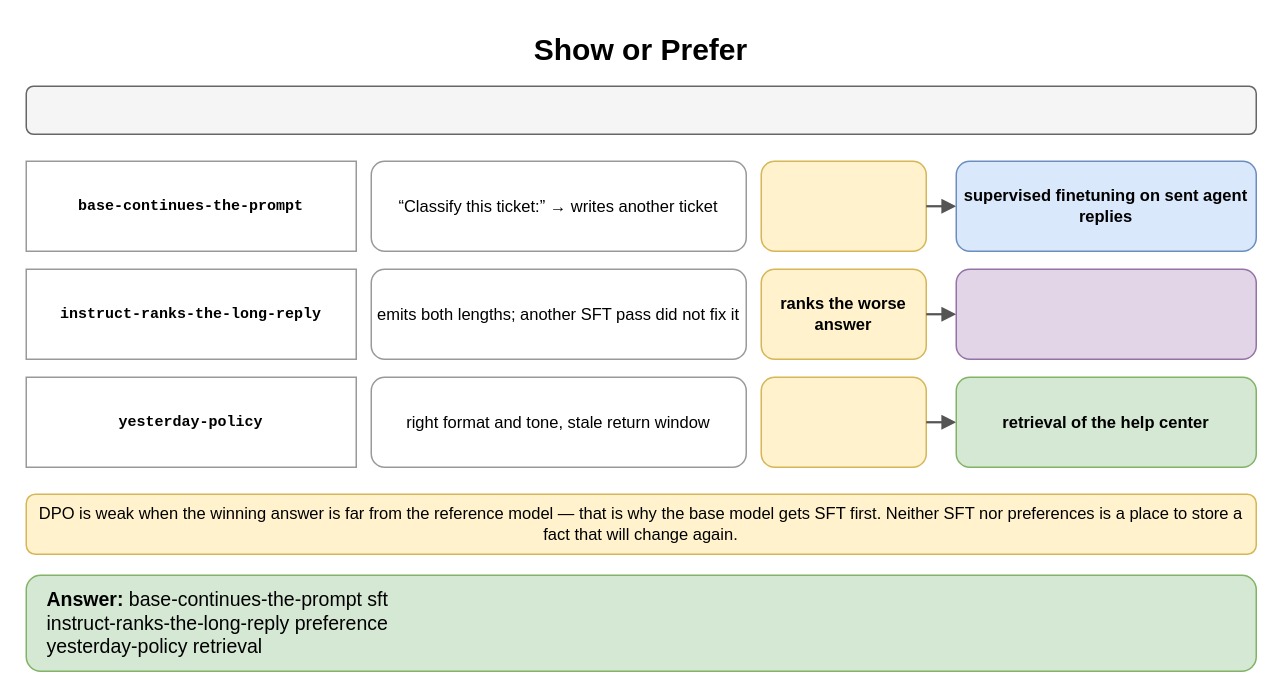
Some shapes in this 1283 by 698 pixel diagram are drawn without their labels. The shapes that lost their labels are listed below. From the top down, each one's centre as x and y in pixels, then its label:
At point (640, 109): "Pick the lever from the gap — the prompt carries the instruction in all three".
At point (843, 205): "behavior absent".
At point (1105, 313): "preference: DPO on the pairs (or RM + RLHF for best-of-N)".
At point (843, 421): "a changed fact".
